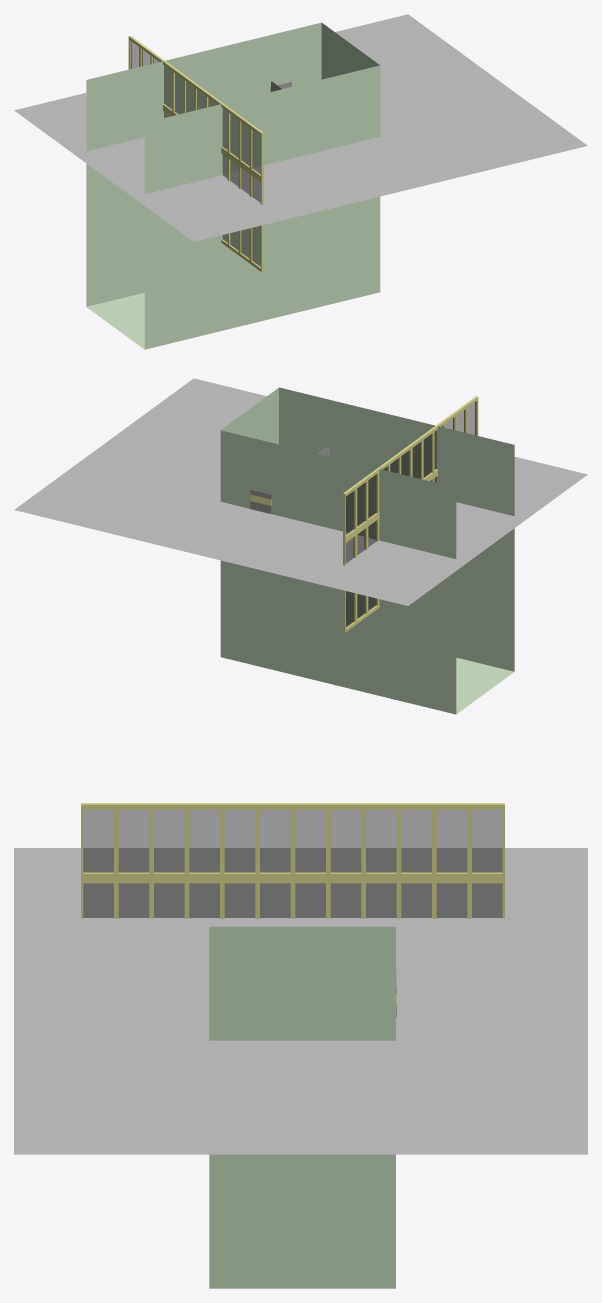
File: Office.fbx
3 renders of one model, top to bottom at view 1: azimuth 30°, elevation 25°; view 2: azimuth 150°, elevation 25°; view 3: azimuth 270°, elevation 25°, orthographic. The views are drawn at different scales.
Parts seen in each view (by area): view 1: Cube.024, Plane, Cube.023; view 2: Cube.024, Plane, Cube.023, Cube.004; view 3: Plane, Cube.023, Cube.024.
Boxes of the visible parts, box(x1,y1,x2,y2) form: Cube.024: box(86, 22, 380, 349); Plane: box(14, 14, 587, 241); Cube.023: box(128, 36, 263, 272); Cube.024: box(220, 387, 514, 714); Plane: box(14, 378, 587, 605); Cube.023: box(343, 396, 478, 632); Cube.004: box(250, 489, 271, 514); Plane: box(14, 848, 587, 1154); Cube.023: box(81, 803, 504, 918); Cube.024: box(209, 926, 395, 1288).
Size of the model in its own units: 9365 by 5152 by 7401.
18 materials, 2 textured.
